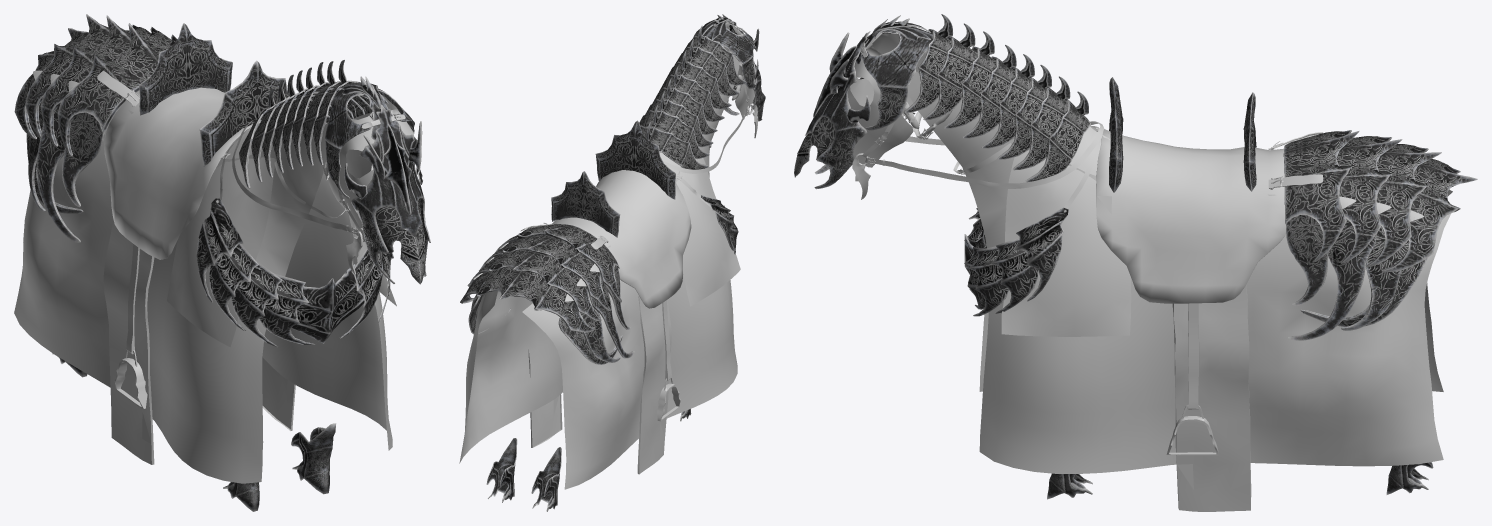
The model's file is lord_sauron_horse_armour.fbx.
The picture shows the model from 3 angles, left to right: view 1: azimuth 30°, elevation 25°; view 2: azimuth 150°, elevation 25°; view 3: azimuth 270°, elevation 25°; orthographic projection. The views are drawn at different scales.
Parts seen in each view (by area): view 1: lord_sauron_horse_armour.lod0.0, lord_sauron_horse_armour.lod0.1; view 2: lord_sauron_horse_armour.lod0.0, lord_sauron_horse_armour.lod0.1; view 3: lord_sauron_horse_armour.lod0.0, lord_sauron_horse_armour.lod0.1.
Boxes of the visible parts, left/top/right/bottom form: lord_sauron_horse_armour.lod0.0: left=14, top=70, right=414, bottom=483; lord_sauron_horse_armour.lod0.1: left=14, top=14, right=430, bottom=511; lord_sauron_horse_armour.lod0.0: left=459, top=22, right=757, bottom=489; lord_sauron_horse_armour.lod0.1: left=460, top=14, right=765, bottom=511; lord_sauron_horse_armour.lod0.0: left=847, top=30, right=1452, bottom=511; lord_sauron_horse_armour.lod0.1: left=794, top=14, right=1477, bottom=499.
Size of the model in its own units: 0.8362 by 2.63 by 1.98.
